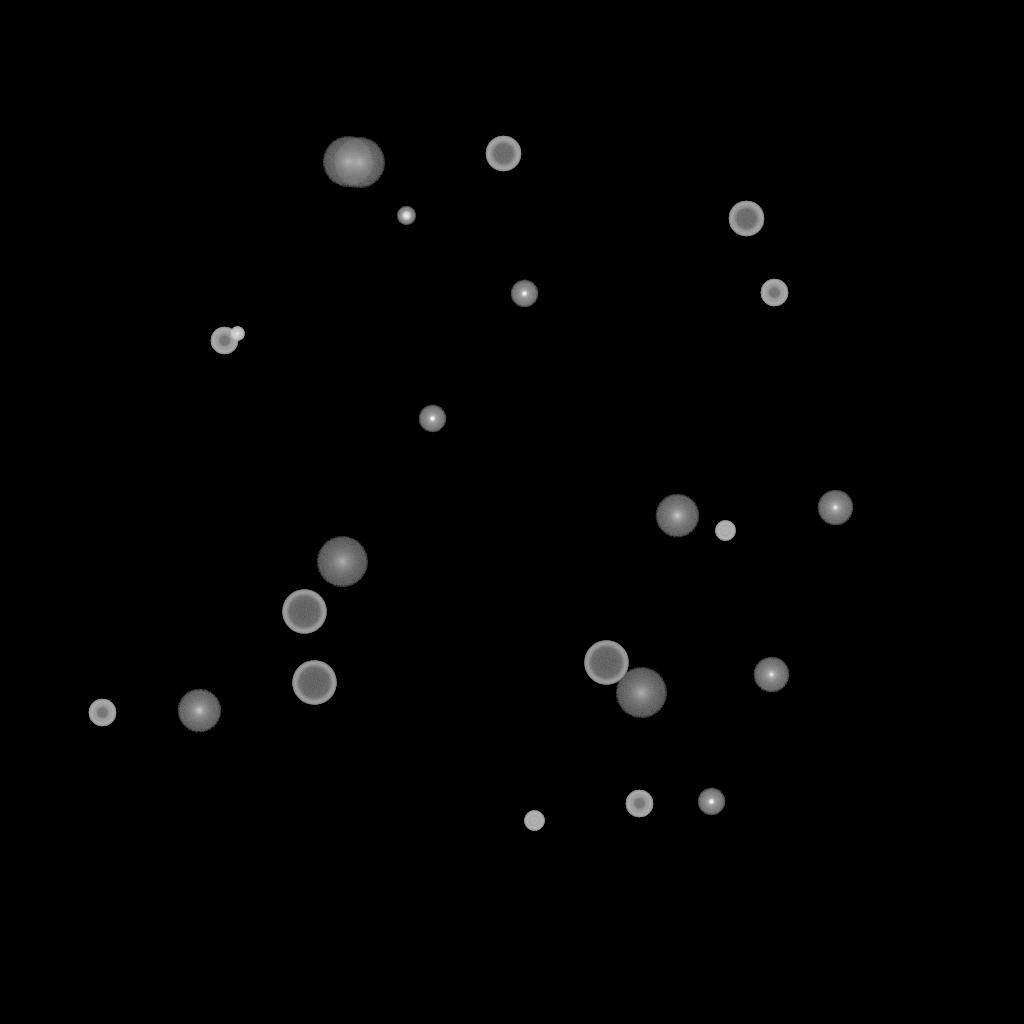depth:-10: (418, 405, 446, 433), (697, 788, 725, 816), (510, 280, 538, 308)
depth:-20: (397, 207, 415, 225)
depth:-30: (230, 327, 244, 341)
depth:-40: (715, 521, 735, 541), (524, 811, 544, 831)
depth:-50: (210, 327, 238, 355), (625, 790, 653, 818), (760, 279, 788, 307), (88, 699, 116, 727)
depth:-60: (728, 201, 764, 237), (485, 136, 521, 172)
depth:-70: (282, 590, 326, 634), (584, 641, 628, 685), (292, 661, 336, 705)
depth:0: (817, 490, 853, 526), (753, 657, 789, 693)
depth:10: (177, 689, 221, 733), (655, 494, 699, 538)
depth:20: (615, 668, 667, 718), (333, 138, 385, 188), (316, 537, 368, 587), (322, 137, 374, 187)
